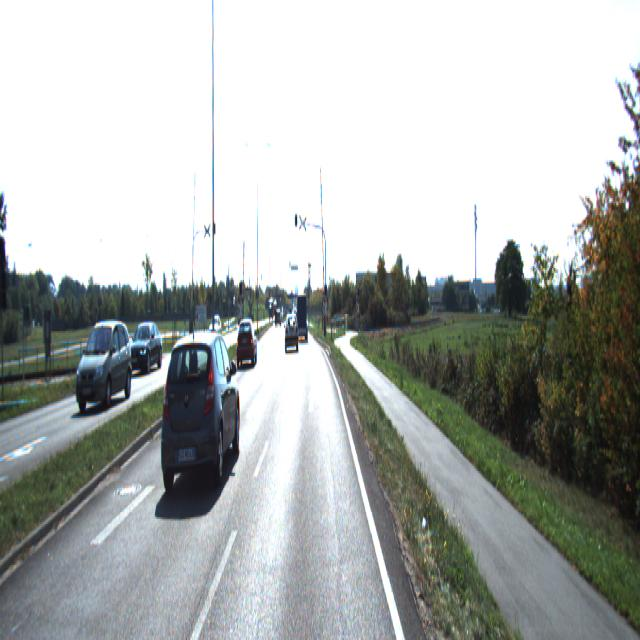Car: (159, 316, 240, 501), (76, 317, 132, 412), (126, 322, 163, 376), (235, 321, 258, 370), (296, 294, 308, 342), (285, 313, 298, 349)
